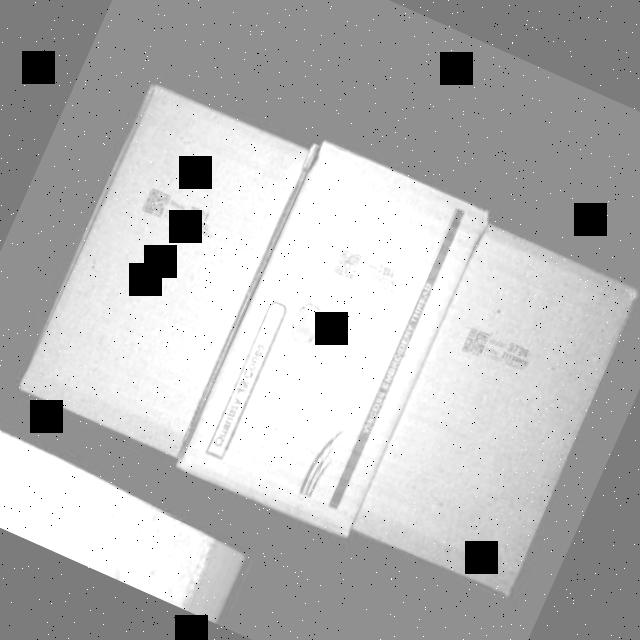box: (185, 142, 490, 538), (354, 227, 640, 599), (24, 90, 310, 460)
